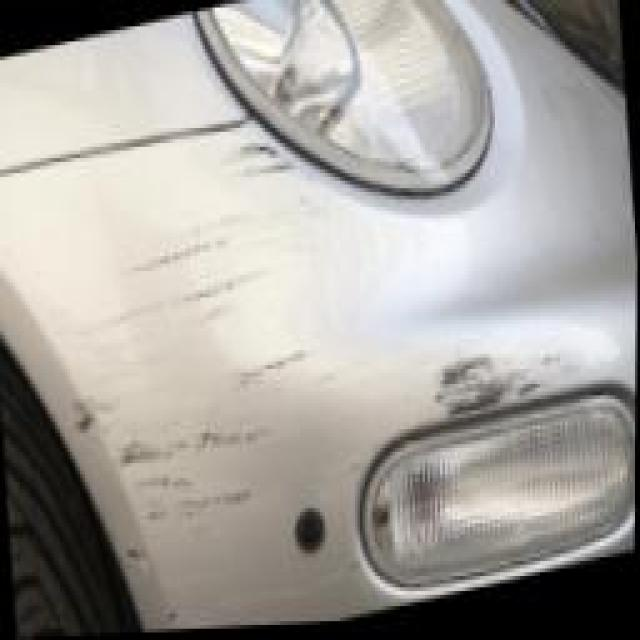Bumper: (25, 75, 555, 640)
